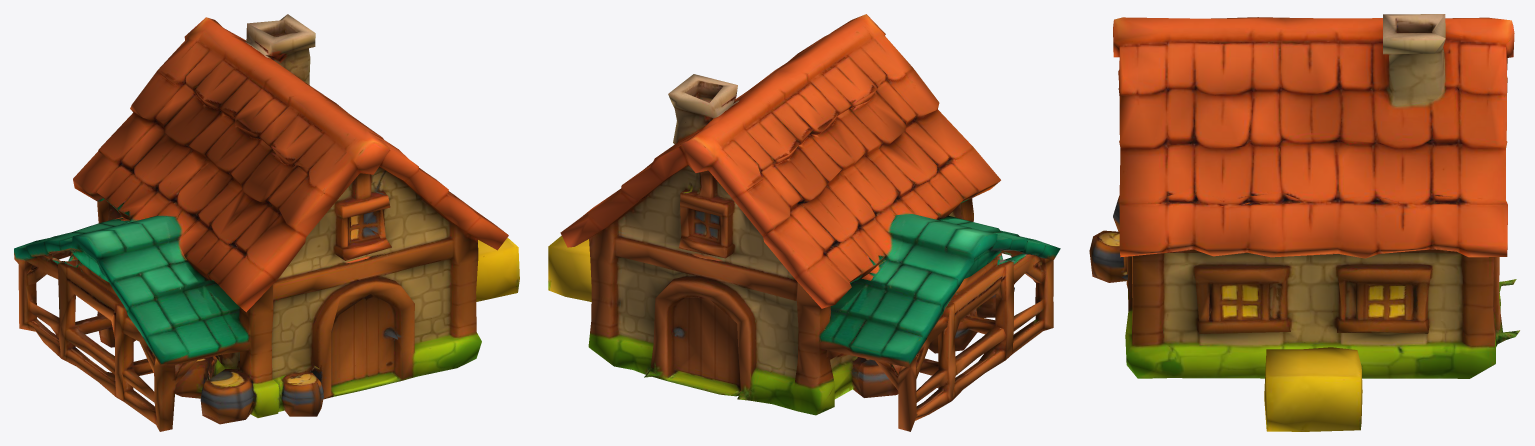
The model's file is House1.glb.
3 renders of one model, left to right at view 1: azimuth 30°, elevation 25°; view 2: azimuth 150°, elevation 25°; view 3: azimuth 270°, elevation 25°, orthographic. The views are drawn at different scales.
Parts seen in each view (by area): view 1: Mesh1.0; view 2: Mesh1.0; view 3: Mesh1.0.
Part boxes in pixels (x1,y1,x2,y2): Mesh1.0: (14, 14, 519, 431); Mesh1.0: (548, 14, 1060, 431); Mesh1.0: (1089, 14, 1519, 431).
Bounding box in the file's own units: 1.91 × 1.16 × 1.46.
1 material, 1 textured.
